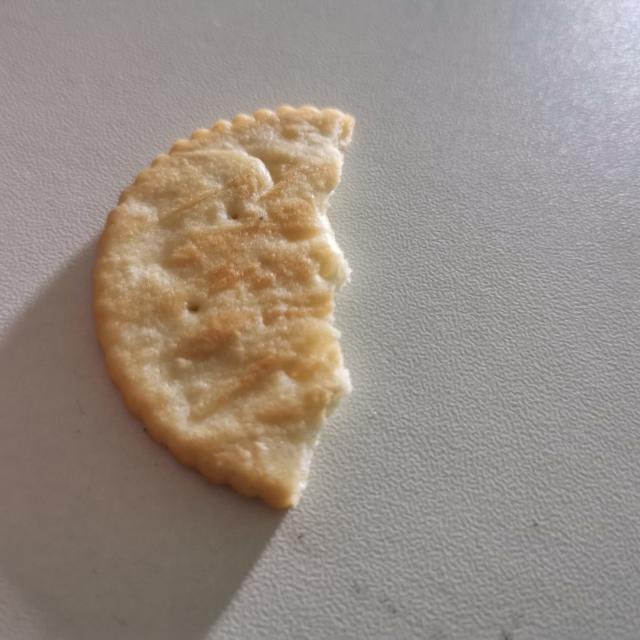Broken: (91, 102, 356, 510)
